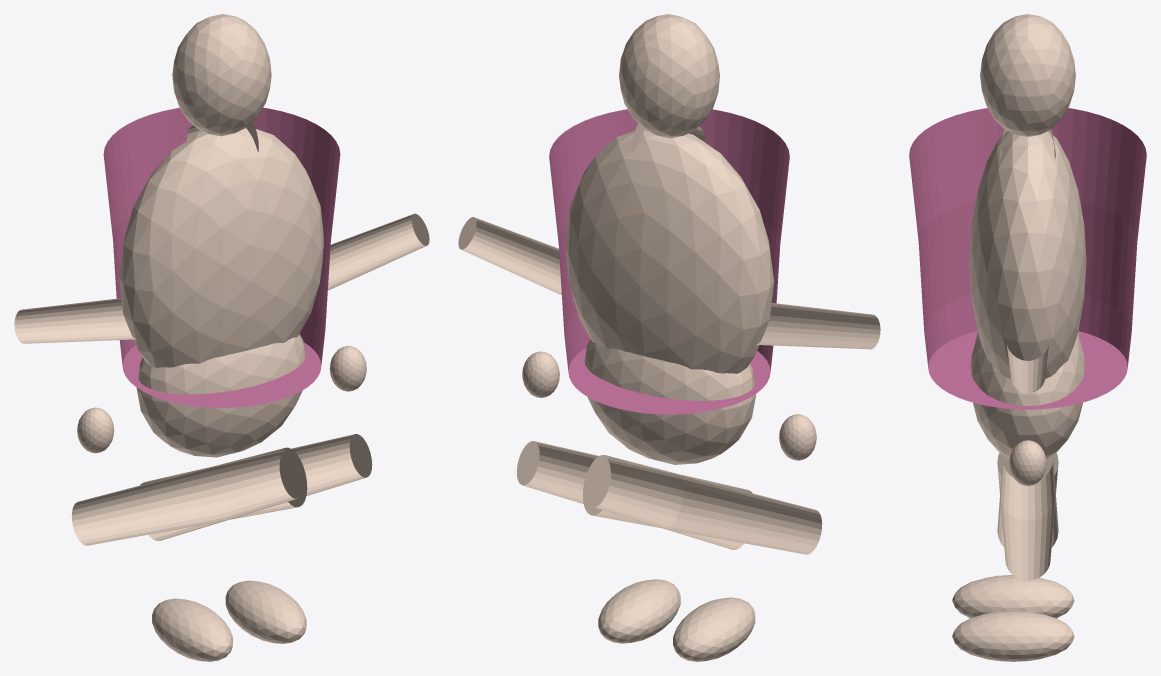
File: masculino-camisola.glb
The picture shows the model from 3 angles, left to right: view 1: azimuth 30°, elevation 25°; view 2: azimuth 150°, elevation 25°; view 3: azimuth 270°, elevation 25°; orthographic projection.
Parts seen in each view (by area): view 1: Avatar0, Prenda, Avatar1, Avatar3, Avatar4, Avatar8, Avatar6, Avatar10, Avatar9, Avatar5, Avatar7, Avatar11; view 2: Avatar0, Prenda, Avatar1, Avatar3, Avatar4, Avatar8, Avatar6, Avatar10, Avatar5, Avatar9, Avatar11, Avatar7; view 3: Prenda, Avatar0, Avatar3, Avatar1, Avatar9, Avatar5, Avatar8, Avatar4, Avatar11, Avatar10.
Boxes of the visible parts, x1,y1,x2,y2 form: Avatar0: [119, 128, 323, 367]; Prenda: [103, 107, 340, 407]; Avatar1: [136, 334, 305, 457]; Avatar3: [172, 14, 271, 136]; Avatar4: [71, 447, 307, 545]; Avatar8: [140, 434, 372, 540]; Avatar6: [14, 298, 136, 343]; Avatar10: [316, 213, 429, 295]; Avatar9: [225, 580, 306, 643]; Avatar5: [152, 598, 232, 661]; Avatar7: [77, 407, 114, 453]; Avatar11: [329, 346, 366, 391]; Avatar0: [566, 130, 773, 373]; Prenda: [549, 109, 789, 414]; Avatar1: [584, 339, 756, 464]; Avatar3: [619, 14, 719, 138]; Avatar4: [582, 455, 822, 554]; Avatar8: [516, 441, 752, 549]; Avatar6: [756, 303, 880, 349]; Avatar10: [458, 217, 573, 300]; Avatar5: [673, 597, 755, 661]; Avatar9: [598, 579, 680, 643]; Avatar11: [522, 351, 559, 397]; Avatar7: [779, 414, 816, 460]; Prenda: [909, 108, 1146, 409]; Avatar0: [969, 131, 1086, 379]; Avatar3: [980, 14, 1075, 136]; Avatar1: [970, 333, 1085, 458]; Avatar9: [952, 611, 1074, 661]; Avatar5: [952, 575, 1074, 618]; Avatar8: [997, 452, 1058, 580]; Avatar4: [997, 460, 1058, 547]; Avatar11: [1009, 440, 1046, 485]; Avatar10: [1006, 344, 1049, 393].
Bounding box in the file's own units: 1.75 × 2.58 × 0.893.
